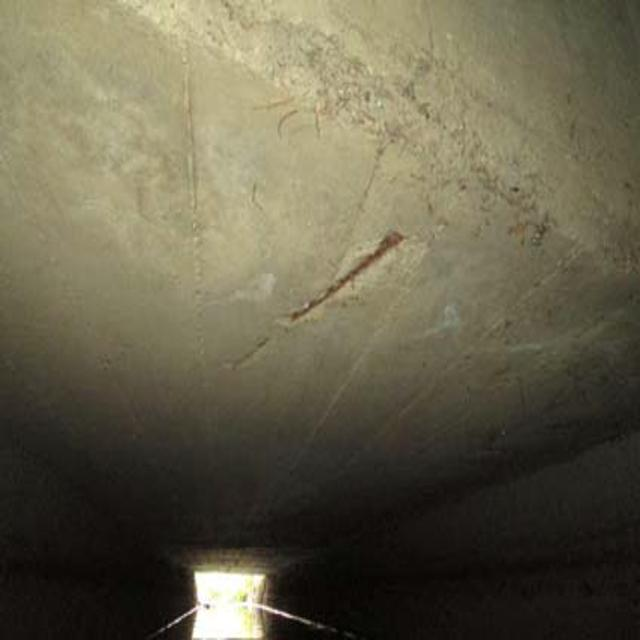spalling: (263, 203, 426, 334)
